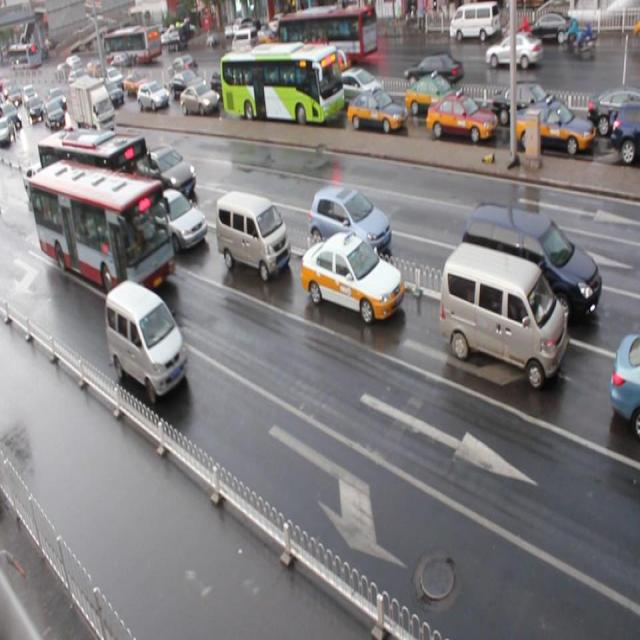bus: (70, 75, 116, 142)
car: (299, 229, 402, 321), (307, 184, 392, 260), (514, 99, 594, 159), (138, 187, 206, 252), (425, 92, 497, 144), (492, 82, 568, 128), (140, 144, 198, 202), (608, 330, 640, 434), (345, 87, 406, 133), (404, 74, 466, 118), (586, 89, 640, 136), (332, 64, 385, 107), (609, 99, 640, 161), (22, 159, 60, 204), (180, 80, 220, 116), (210, 69, 243, 104), (168, 73, 203, 99), (138, 82, 170, 110), (125, 70, 151, 95), (100, 82, 124, 109)
truck: (438, 240, 567, 388), (459, 200, 600, 334), (104, 279, 188, 404), (214, 187, 289, 281)
van: (28, 160, 176, 306), (37, 126, 154, 235), (216, 42, 339, 125)
